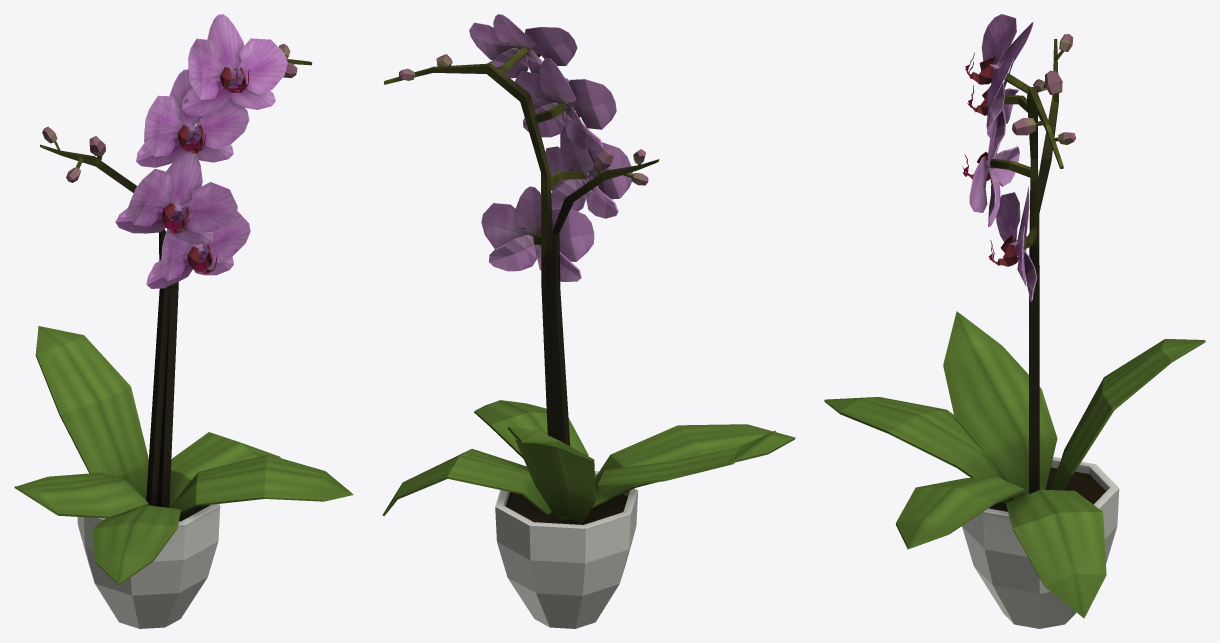
File: Orchids.obj
The picture shows the model from 3 angles, left to right: view 1: azimuth 30°, elevation 25°; view 2: azimuth 150°, elevation 25°; view 3: azimuth 270°, elevation 25°; orthographic projection. The views are drawn at different scales.
Visible parts, largest first — view 1: Orchids_Mesh; view 2: Orchids_Mesh; view 3: Orchids_Mesh.
Part boxes in pixels (left/top/right/bottom): Orchids_Mesh: left=14, top=14, right=353, bottom=628; Orchids_Mesh: left=382, top=14, right=795, bottom=628; Orchids_Mesh: left=824, top=14, right=1205, bottom=628.
Bounding box in the file's own units: 2.56 × 4.14 × 2.28.
Materials: 1 (1 with a texture image).
